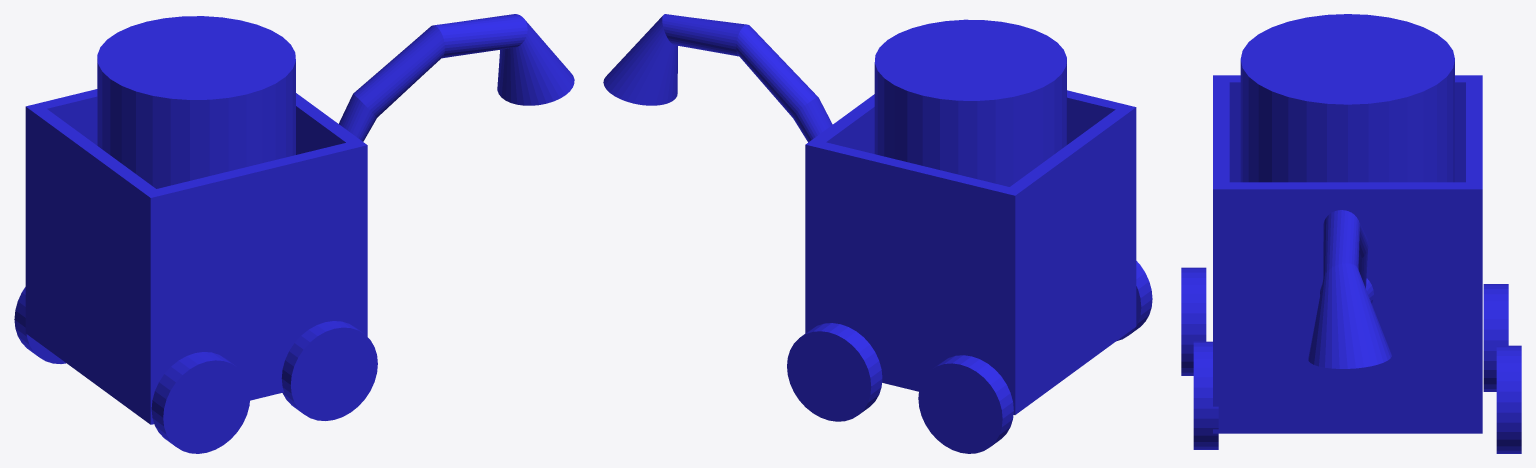
File: giesroboter.glb
The picture shows the model from 3 angles, left to right: view 1: azimuth 30°, elevation 25°; view 2: azimuth 150°, elevation 25°; view 3: azimuth 270°, elevation 25°; orthographic projection. The views are drawn at different scales.
Visible parts, largest first — view 1: Cube; view 2: Cube; view 3: Cube.
Part boxes in pixels (left/top/right/bottom): Cube: left=14, top=14, right=574, bottom=453; Cube: left=603, top=14, right=1152, bottom=453; Cube: left=1181, top=14, right=1521, bottom=453.
Size of the model in its own units: 4.47 by 2.96 by 2.52.
